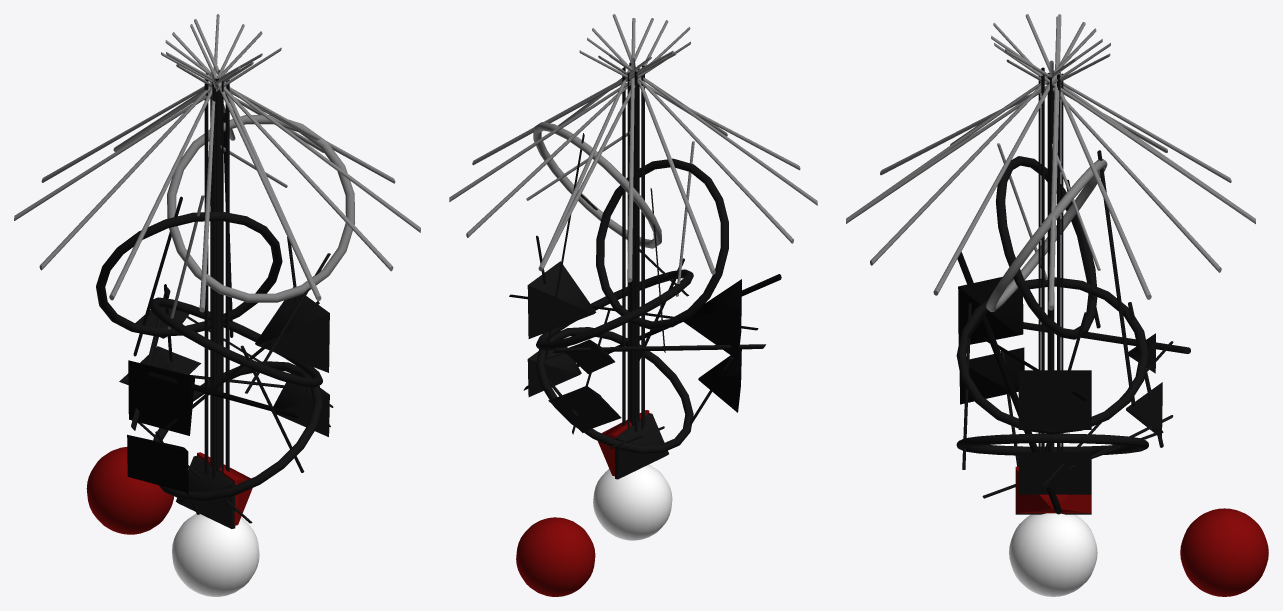
File: Rune-Main-03.obj
3 renders of one model, left to right at view 1: azimuth 30°, elevation 25°; view 2: azimuth 150°, elevation 25°; view 3: azimuth 270°, elevation 25°, orthographic. The views are drawn at different scales.
Visible parts, largest first — view 1: group8 pCylinder38, group8 pSphere1, group8 pSphere2, group8 pTorus4, group8 pTorus3, group8 pCube10, group8 pCube1, group8 pTorus2, group8 pTorus1, group8 pCube9, group8 pCube12, group8 pCylinder4 (+13 smaller); view 2: group8 pCylinder38, group8 pSphere2, group8 pSphere1, group8 pTorus3, group8 pCube1, group8 pTorus1, group8 pTorus4, group8 pCube10, group8 pTorus2, group8 pCube13, group8 pCube12, group8 pCube9 (+12 smaller); view 3: group8 pCylinder38, group8 pSphere2, group8 pSphere1, group8 pCube1, group8 pTorus2, group8 pTorus3, pCube2 group8, group8 pTorus1, group8 pTorus4, group8 pCube10, group8 pCube9, group8 pCube11 (+9 smaller).
Boxes of the visible parts, x1,y1,x2,y2 form: group8 pCylinder38: (14, 14, 420, 312); group8 pSphere1: (172, 513, 259, 596); group8 pSphere2: (86, 447, 173, 534); group8 pTorus4: (167, 115, 354, 302); group8 pTorus3: (96, 211, 282, 336); group8 pCube10: (128, 360, 195, 435); group8 pCube1: (255, 287, 329, 372); group8 pTorus2: (150, 297, 322, 387); group8 pTorus1: (153, 361, 322, 501); group8 pCube9: (127, 434, 188, 493); group8 pCube12: (176, 455, 235, 528); group8 pCylinder4: (215, 78, 220, 471); group8 pCylinder38: (449, 14, 817, 282); group8 pSphere2: (516, 517, 595, 596); group8 pSphere1: (593, 464, 672, 540); group8 pTorus3: (596, 158, 728, 329); group8 pCube1: (527, 261, 596, 338); group8 pTorus1: (536, 327, 693, 453); group8 pTorus4: (533, 122, 661, 248); group8 pCube10: (683, 279, 741, 360); group8 pTorus2: (536, 269, 693, 350); group8 pCube13: (548, 385, 621, 432); group8 pCube12: (615, 413, 668, 479); group8 pCube9: (698, 349, 741, 412); group8 pCylinder38: (846, 14, 1255, 310); group8 pSphere2: (1180, 508, 1268, 596); group8 pSphere1: (1009, 513, 1097, 596); group8 pCube1: (1018, 370, 1091, 429); group8 pTorus2: (956, 277, 1148, 434); group8 pTorus3: (995, 156, 1097, 339); pCube2 group8: (1018, 452, 1091, 494); group8 pTorus1: (956, 433, 1148, 455); group8 pTorus4: (986, 158, 1107, 311); group8 pCube10: (958, 277, 1023, 344); group8 pCube9: (959, 347, 1024, 404); group8 pCube11: (1015, 466, 1091, 513).
Bounding box in the file's own units: 6.88 × 10.27 × 7.1.
